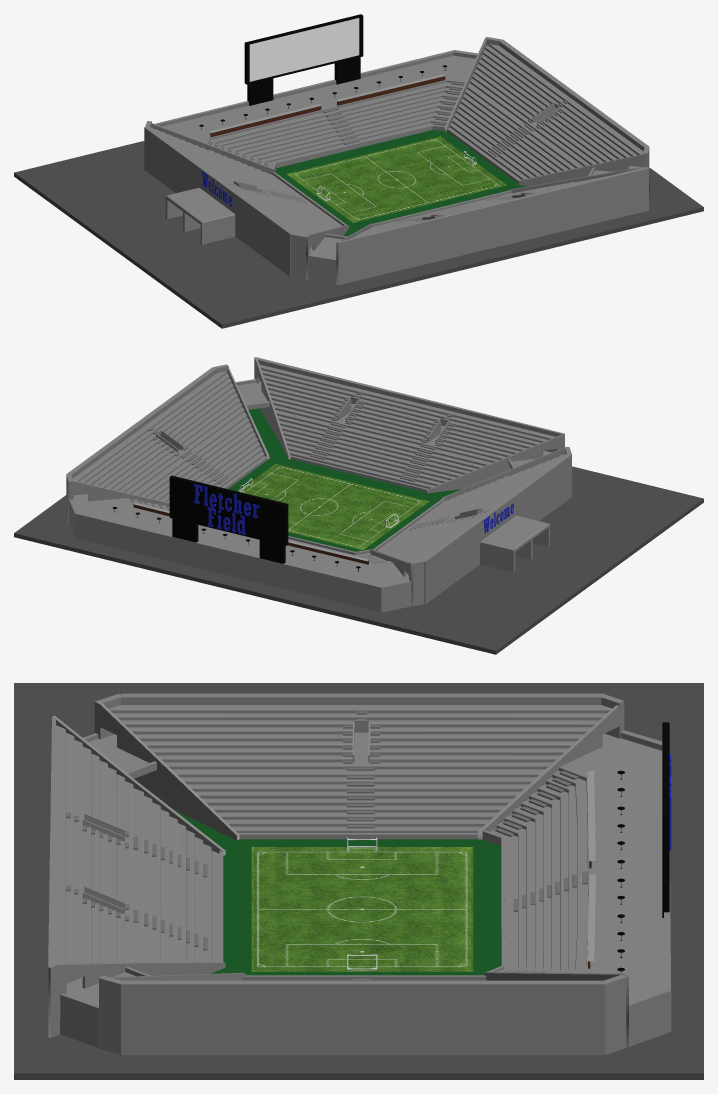
The model's file is soccer_stadium 3.glb.
The picture shows the model from 3 angles, top to bottom: view 1: azimuth 30°, elevation 25°; view 2: azimuth 150°, elevation 25°; view 3: azimuth 270°, elevation 25°; orthographic projection. The views are drawn at different scales.
Parts seen in each view (by area): view 1: Ground_Concrete1, South_Bleachers, polySurface356, polySurface386, polySurface666, pCube37, North_Bleachers, polySurface696, pCube31, polySurface357, polySurface570, West_Bleachers (+23 smaller); view 2: Ground_Concrete1, West_Bleachers, South_Bleachers, polySurface357, polySurface666, polySurface386, pCube37, North_Bleachers, pCube31, polySurface696, polySurface356, polySurface635 (+7 smaller); view 3: Ground_Concrete1, North_Bleachers, polySurface570, polySurface386, West_Bleachers, polySurface696, pCube31, polySurface666, South_Bleachers, polySurface633, polySurface605, polySurface357 (+34 smaller).
Boxes of the visible parts, left/top/right/bottom form: Ground_Concrete1: left=14, top=141, right=703, bottom=328; South_Bleachers: left=357, top=44, right=643, bottom=179; polySurface356: left=338, top=167, right=648, bottom=285; polySurface386: left=286, top=136, right=506, bottom=222; polySurface666: left=144, top=127, right=294, bottom=276; pCube37: left=244, top=14, right=363, bottom=105; North_Bleachers: left=151, top=127, right=342, bottom=258; polySurface696: left=162, top=80, right=378, bottom=147; pCube31: left=275, top=130, right=528, bottom=236; polySurface357: left=155, top=50, right=477, bottom=126; polySurface570: left=499, top=40, right=648, bottom=150; West_Bleachers: left=350, top=176, right=607, bottom=238; Ground_Concrete1: left=14, top=466, right=703, bottom=654; West_Bleachers: left=258, top=364, right=555, bottom=488; South_Bleachers: left=73, top=371, right=269, bottom=534; polySurface357: left=69, top=499, right=411, bottom=612; polySurface666: left=422, top=454, right=571, bottom=604; polySurface386: left=238, top=464, right=429, bottom=550; pCube37: left=169, top=475, right=288, bottom=563; North_Bleachers: left=377, top=454, right=565, bottom=580; pCube31: left=228, top=408, right=461, bottom=551; polySurface696: left=198, top=525, right=408, bottom=585; polySurface356: left=256, top=357, right=563, bottom=452; polySurface635: left=427, top=433, right=564, bottom=493; Ground_Concrete1: left=14, top=683, right=703, bottom=1079; North_Bleachers: left=88, top=705, right=618, bottom=832; polySurface570: left=121, top=980, right=604, bottom=1054; polySurface386: left=251, top=847, right=473, bottom=971; West_Bleachers: left=56, top=725, right=219, bottom=994; polySurface696: left=559, top=736, right=662, bottom=914; pCube31: left=175, top=811, right=501, bottom=975; polySurface666: left=121, top=693, right=604, bottom=732; South_Bleachers: left=60, top=914, right=663, bottom=1008; polySurface633: left=94, top=700, right=239, bottom=840; polySurface605: left=48, top=962, right=225, bottom=1037; polySurface357: left=620, top=730, right=671, bottom=1046.
Bounding box in the file's own units: 138 × 24.02 × 103.
Materials: 13 (1 with a texture image).
